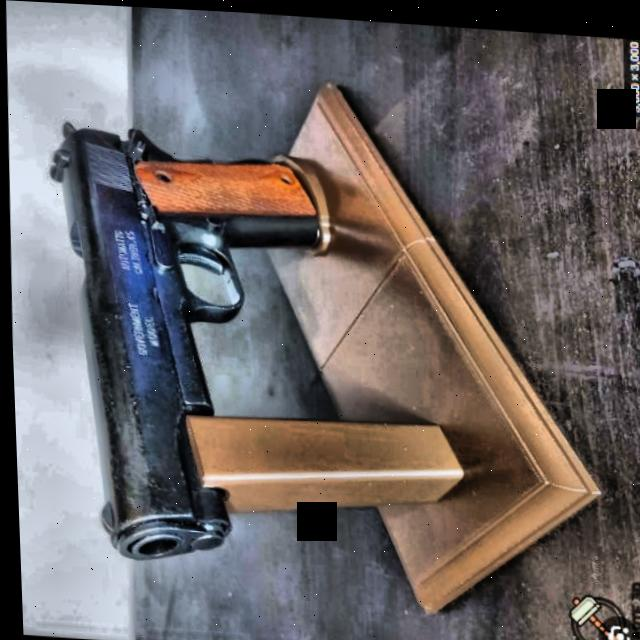Colt m1911: (38, 117, 469, 579)
